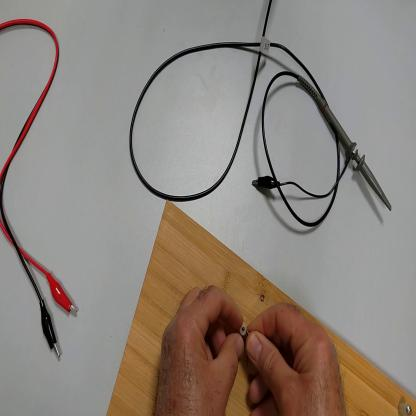hand: (159, 285, 244, 413), (246, 304, 344, 413)
oscilloscope probe tip: (297, 77, 395, 213)
working area: (108, 202, 416, 415)
